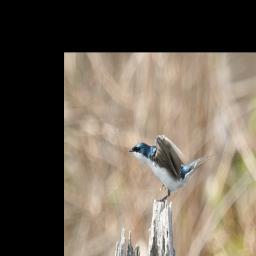Swallow: (128, 133, 214, 204)
